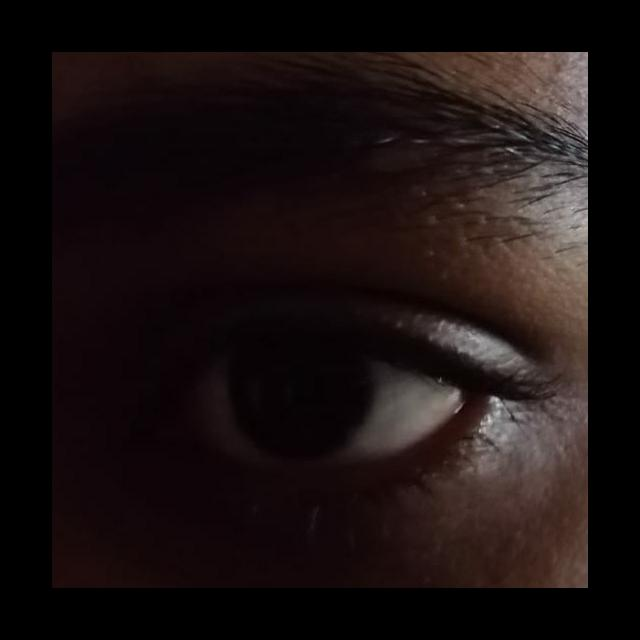eye: (188, 337, 463, 480)
iris: (230, 345, 376, 459)
